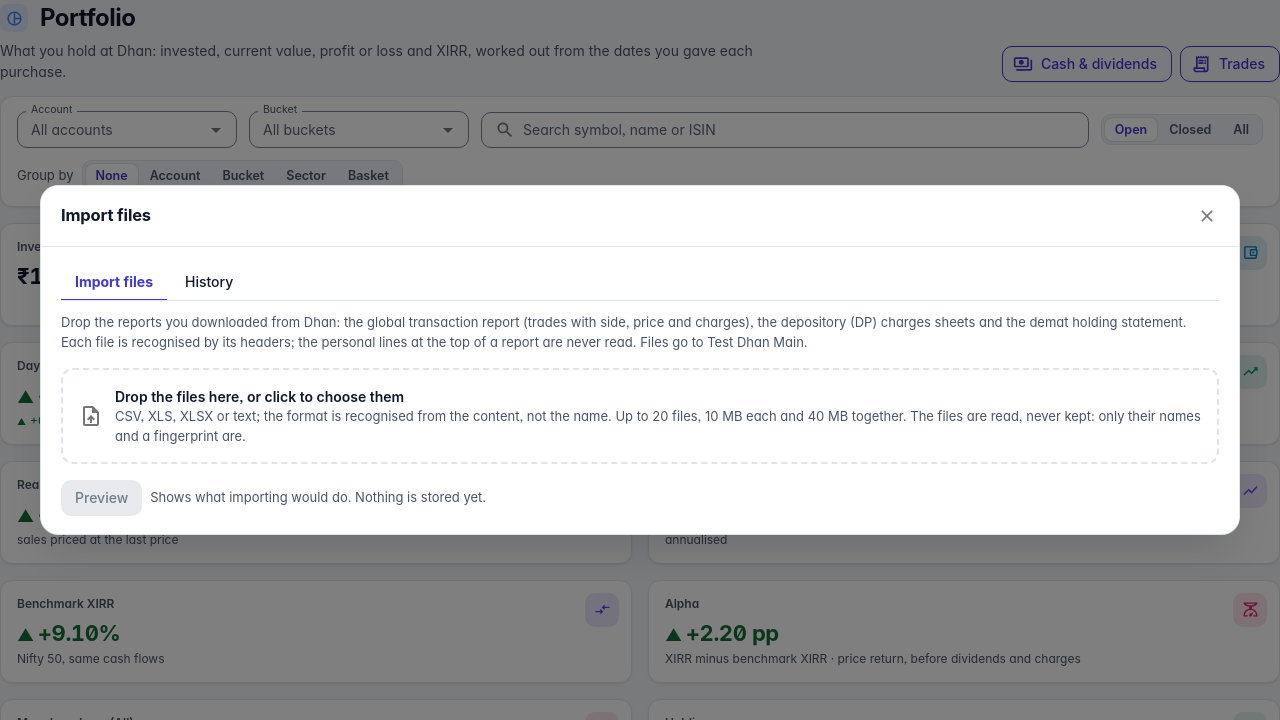
Test case: Import history: tradebooks and depository-charges sheets › is also a tab of the Import files dialog
Click the tab "History": (209, 283) [171,265,247,301]
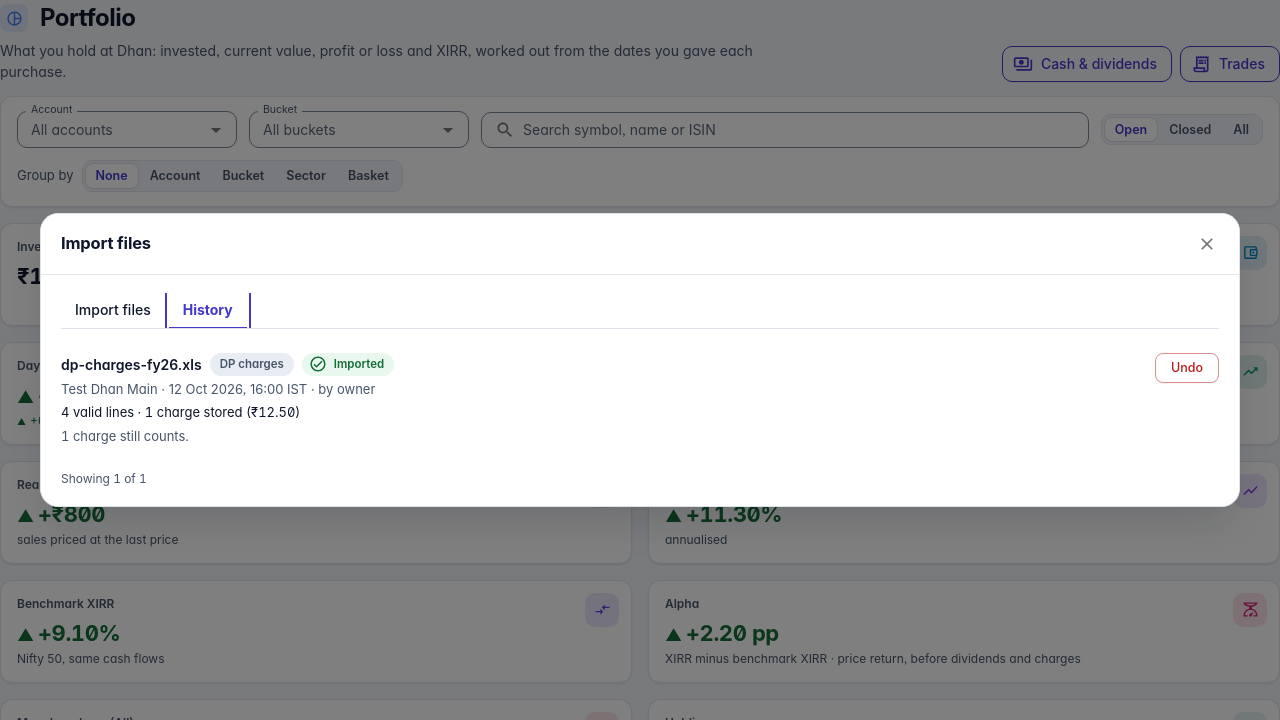
Now the text "dp-charges-fy26.xls" is shown, box [61,354,202,375]
